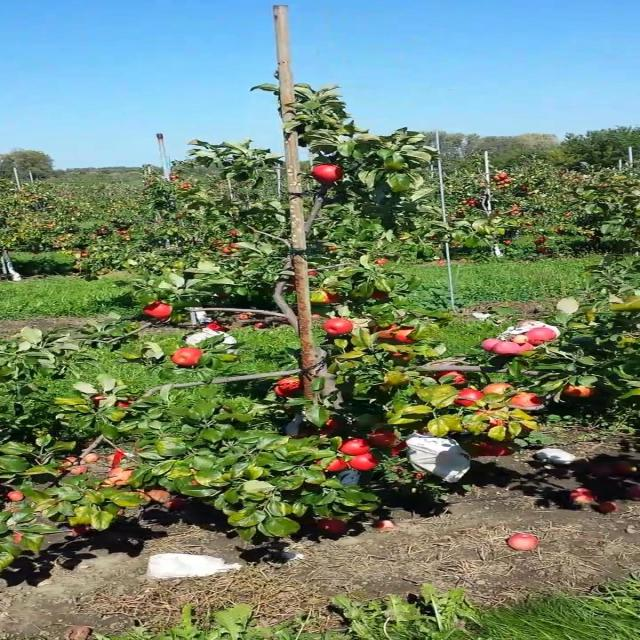apple: (471, 410, 509, 429), (171, 346, 202, 368), (509, 392, 544, 410), (311, 164, 342, 184), (349, 452, 380, 471), (524, 328, 558, 345), (142, 301, 173, 319), (453, 388, 484, 406), (369, 429, 398, 448), (433, 370, 467, 386), (322, 318, 353, 335), (276, 376, 302, 396), (104, 468, 132, 486), (340, 438, 369, 455), (478, 442, 513, 456), (491, 341, 522, 356), (562, 385, 596, 398), (318, 519, 347, 534), (311, 289, 340, 304), (482, 382, 513, 395), (320, 418, 342, 435), (393, 328, 416, 344), (324, 458, 349, 472), (318, 290, 342, 304), (378, 324, 400, 339), (273, 385, 298, 398), (373, 520, 398, 532), (389, 441, 407, 456), (480, 338, 500, 351), (389, 441, 407, 455), (391, 351, 413, 362), (207, 321, 229, 331), (520, 342, 536, 354), (91, 394, 107, 406), (371, 290, 389, 300), (511, 334, 529, 344), (11, 531, 24, 543), (373, 258, 389, 266), (116, 401, 130, 408), (307, 269, 318, 276)
